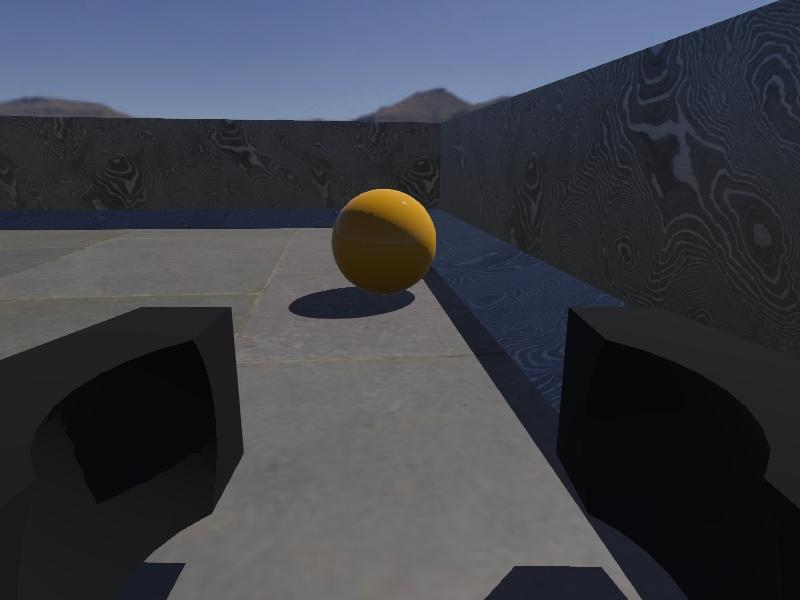orange ball: (331, 187, 438, 297)
